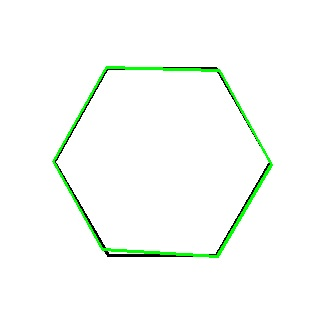line_segment: (53, 66, 272, 258)
